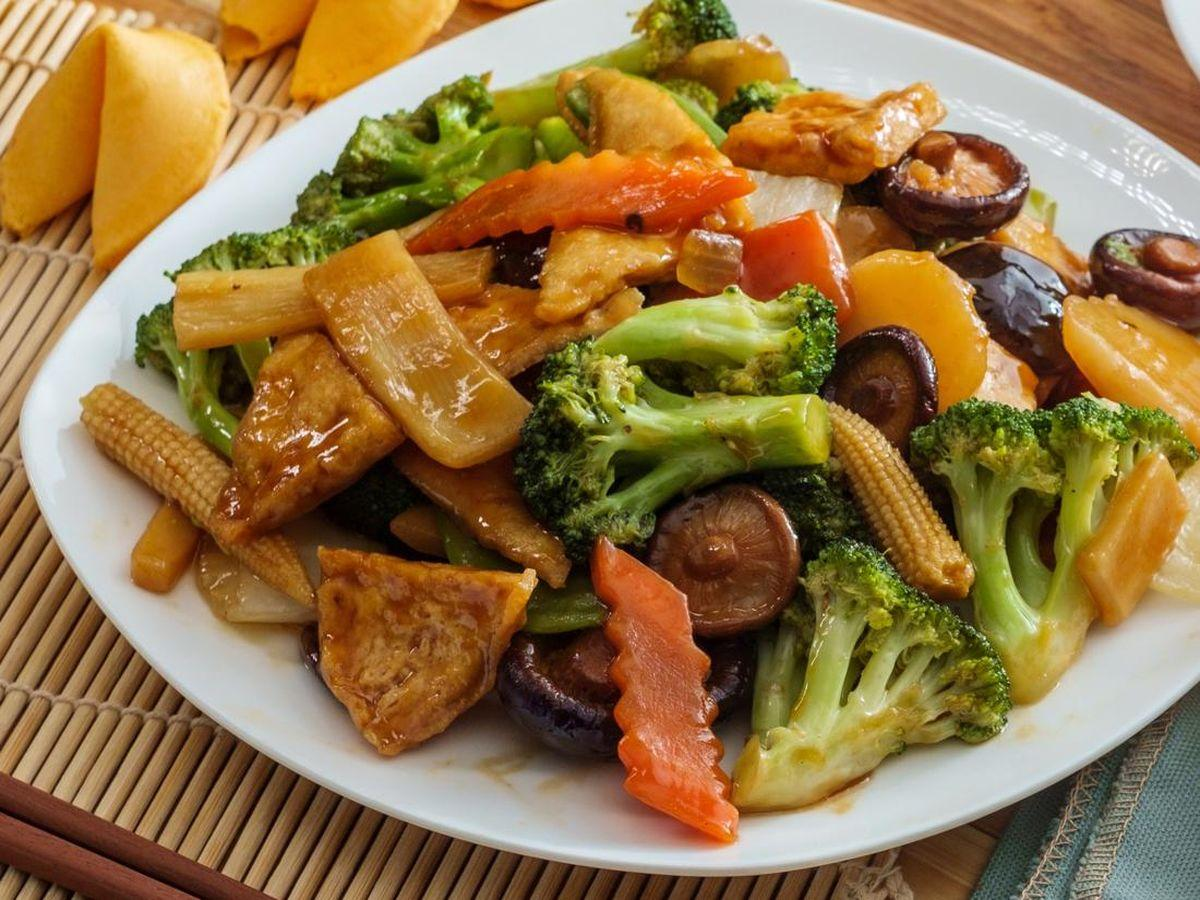buah_sayur_lainnya: (568, 369, 817, 482), (798, 615, 1000, 745), (992, 426, 1093, 607)
buah_sayur_vitA: (612, 573, 704, 788), (478, 164, 701, 231)
